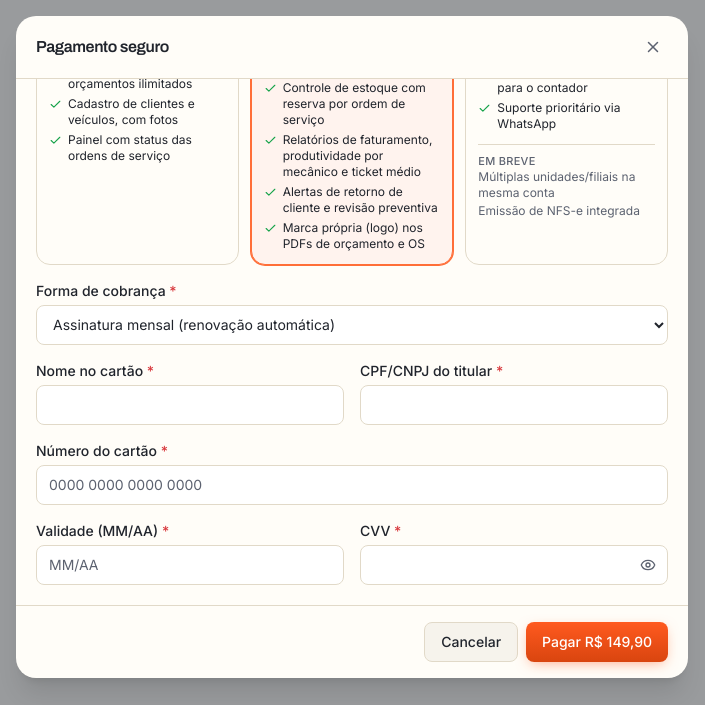
Test: PagamentoCartaoModal › formats the card number and expiry as the user types
The width and height of the screenshot is (705, 705).
(page scrolled)
In the field labelled "Número do cartão *": (352, 485) left=36, top=465, right=668, bottom=505, type "4111111111111111"
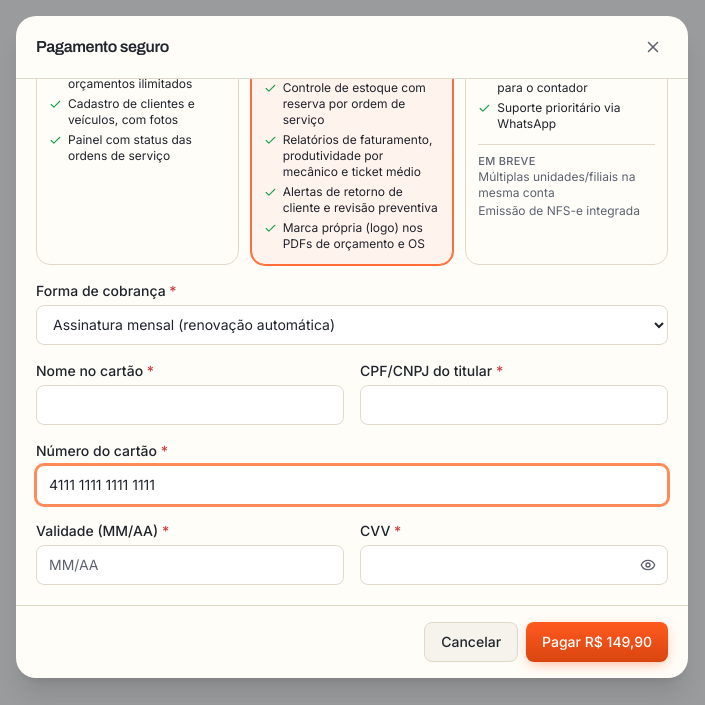
In the field labelled "Validade (MM/AA) *": (190, 565) left=36, top=545, right=344, bottom=585, type "1228"
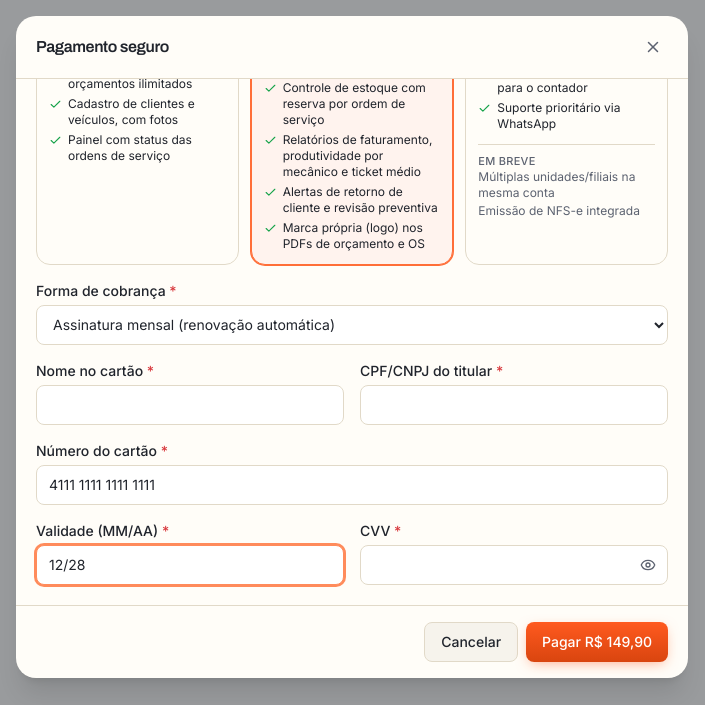
Now the field labelled "Número do cartão *" holds "4111 1111 1111 1111", box left=36, top=465, right=668, bottom=505
Now the field labelled "Validade (MM/AA) *" holds "12/28", box left=36, top=545, right=344, bottom=585
